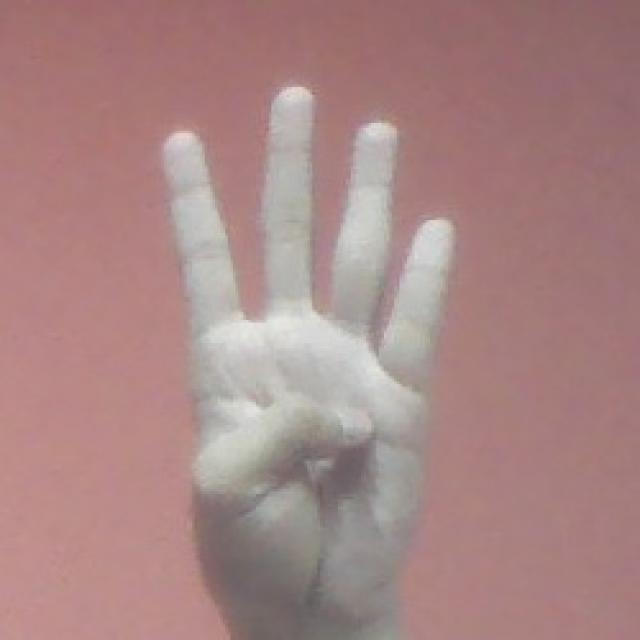Numeric-4: (160, 85, 458, 618)
